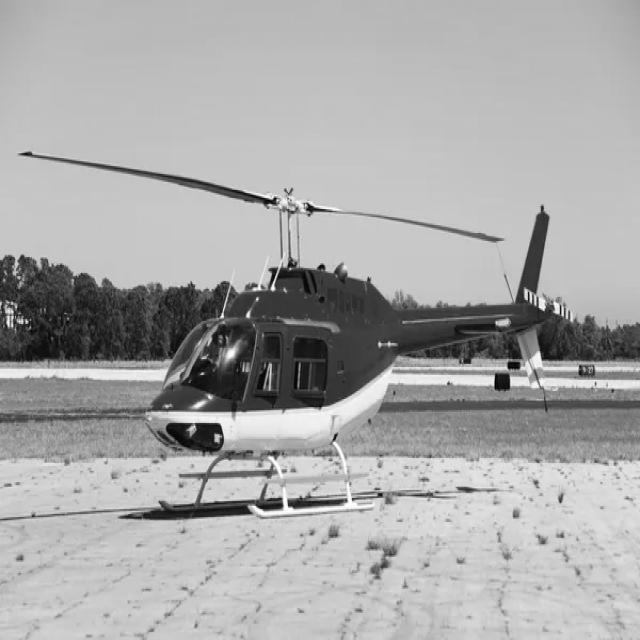Helicopter: (22, 152, 566, 458)
